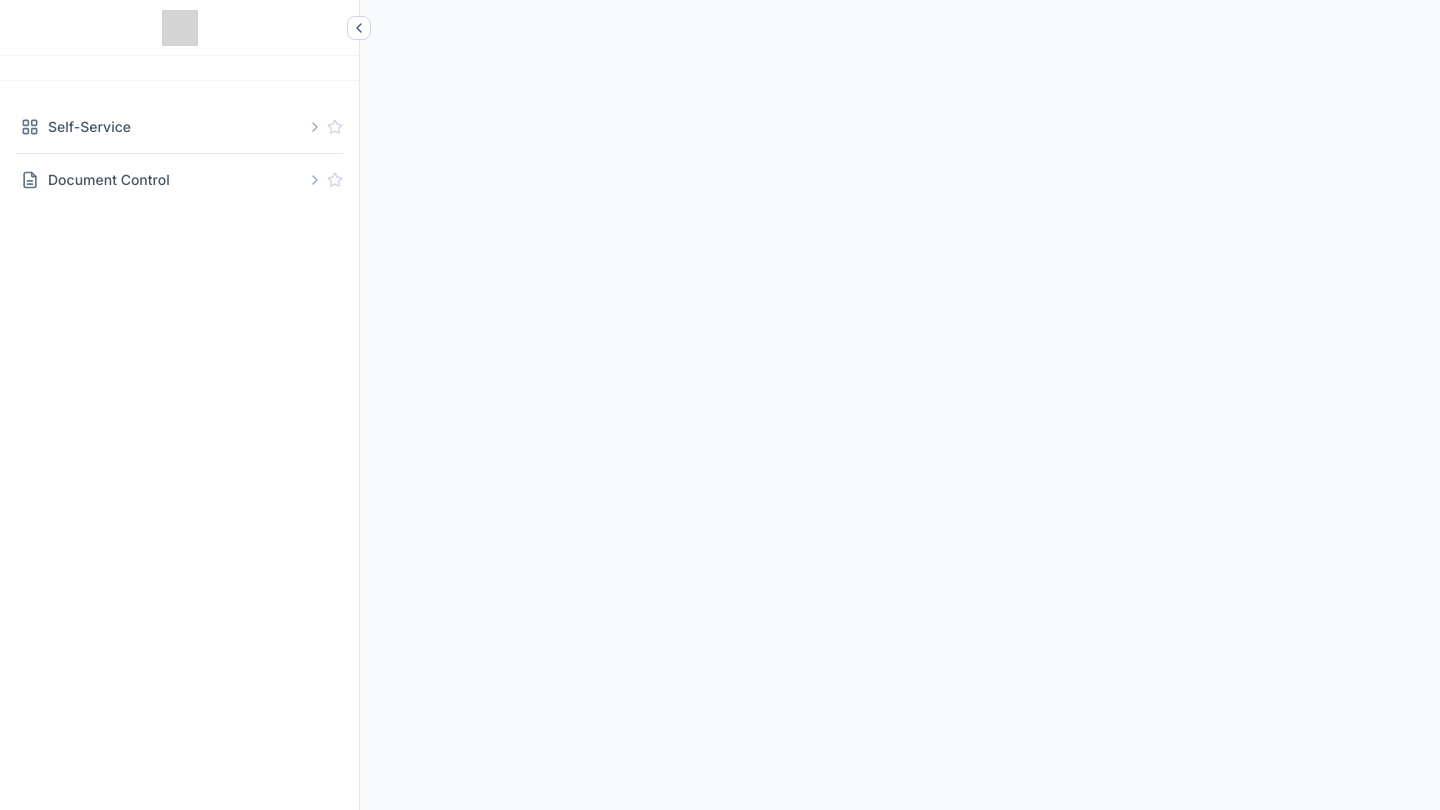
Test: Sidebar Knowledge Base entry › still guards other menu entries on that form
Check: the button "Self-Service" is shown, box [8, 105, 359, 149]
Click the button "Document Control" at (109, 180), box [8, 158, 367, 202]
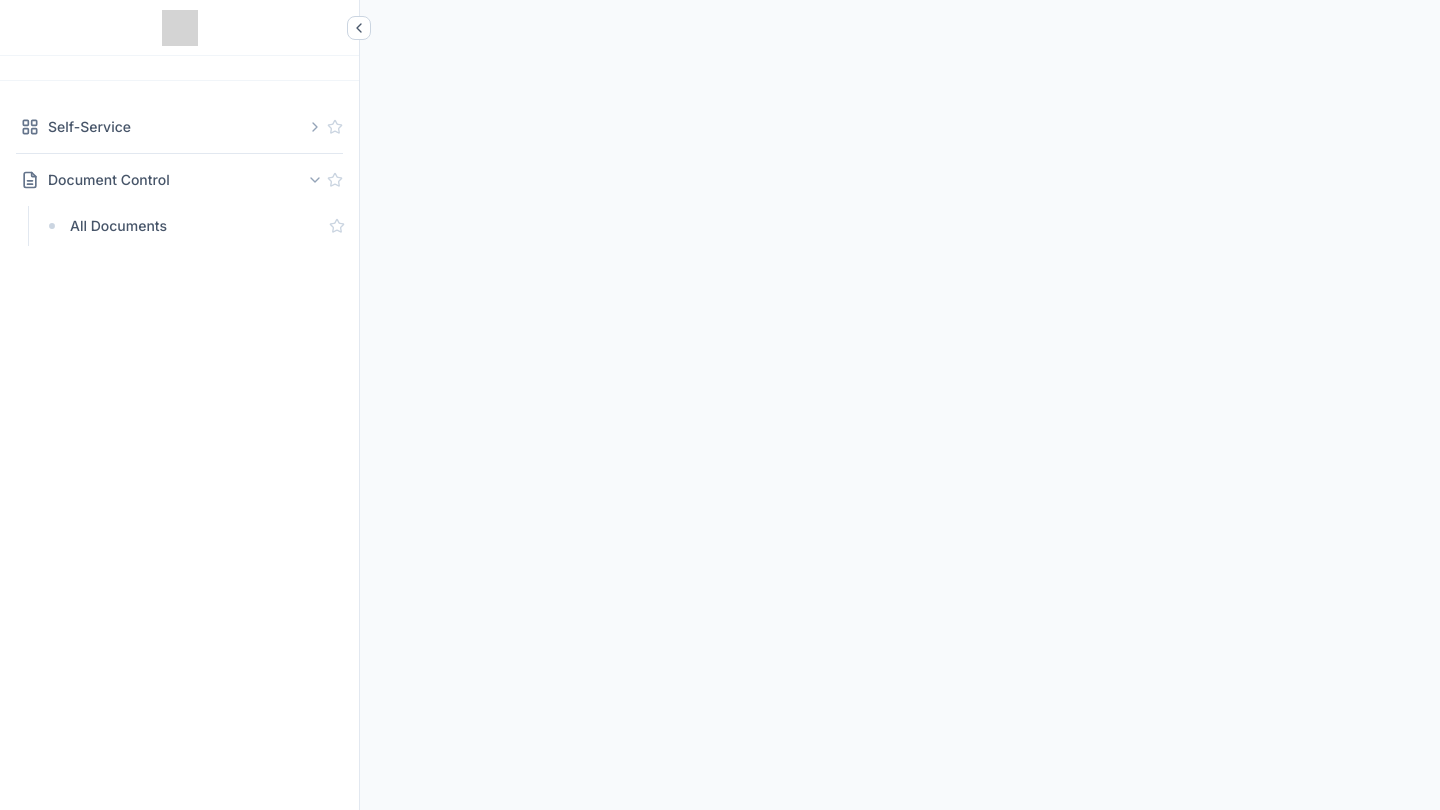
Click the button "All Documents" at (119, 226), box [32, 206, 353, 246]
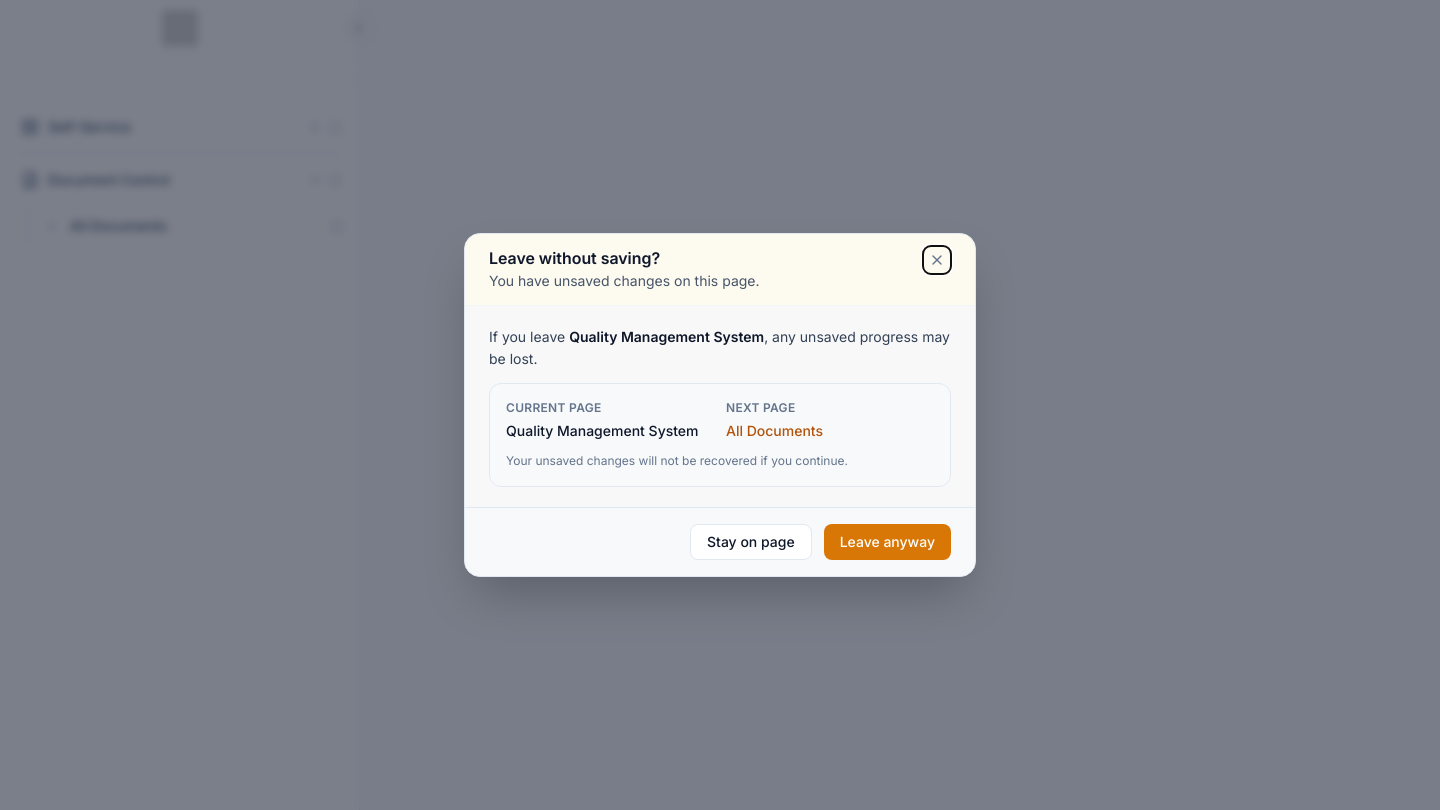
Check: the heading "Leave without saving?" is shown, box [489, 248, 660, 268]
